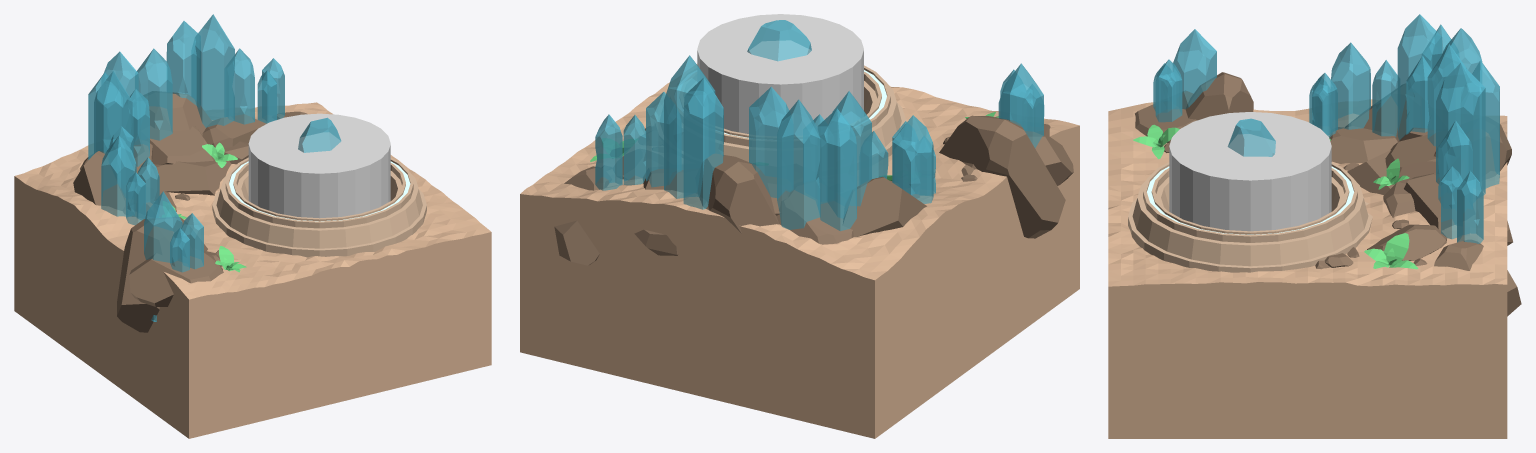
File: crystal-desert.glb
3 renders of one model, left to right at view 1: azimuth 30°, elevation 25°; view 2: azimuth 150°, elevation 25°; view 3: azimuth 270°, elevation 25°, orthographic. The views are drawn at different scales.
Parts seen in each view (by area): view 1: Ground, Cutout, Ring, crystal.001, rock, rock.024, crystal.004, crystal, crystal.007, crystal.008, rock.003, crystal.002 (+15 smaller); view 2: Ground, Cutout, rock, crystal.001, crystal.003, crystal, crystal.007, rock.009, crystal.002, rock.008, crystal.008, Ring (+11 smaller); view 3: Ground, Cutout, Ring, crystal.001, crystal.007, crystal, crystal.008, crystal.014, rock, rock.001, crystal.011, rock.004 (+23 smaller).
Boxes of the visible parts, left/top/right/bottom form: Ground: left=14, top=102, right=491, bottom=438; Cutout: left=248, top=113, right=390, bottom=218; Ring: left=212, top=157, right=426, bottom=257; crystal.001: left=191, top=14, right=234, bottom=127; rock: left=117, top=217, right=207, bottom=332; rock.024: left=129, top=253, right=223, bottom=306; crystal.004: left=137, top=48, right=172, bottom=140; crystal: left=166, top=21, right=200, bottom=107; crystal.007: left=94, top=71, right=132, bottom=153; crystal.008: left=101, top=135, right=136, bottom=216; rock.003: left=154, top=160, right=231, bottom=195; crystal.002: left=88, top=72, right=121, bottom=159; Ground: left=520, top=64, right=1079, bottom=438; Cutout: left=697, top=14, right=863, bottom=133; rock: left=939, top=115, right=1065, bottom=238; crystal.001: left=664, top=55, right=715, bottom=198; crystal.003: left=777, top=99, right=820, bottom=229; crystal: left=683, top=77, right=723, bottom=209; crystal.007: left=827, top=91, right=871, bottom=218; rock.009: left=700, top=153, right=778, bottom=233; crystal.002: left=817, top=108, right=856, bottom=230; rock.008: left=843, top=176, right=926, bottom=236; crystal.008: left=892, top=115, right=933, bottom=203; Ring: left=723, top=65, right=906, bottom=161; Ground: left=1108, top=99, right=1507, bottom=438; Cutout: left=1169, top=112, right=1331, bottom=231; Ring: left=1128, top=162, right=1372, bottom=272; crystal.001: left=1436, top=63, right=1485, bottom=194; crystal.007: left=1397, top=14, right=1441, bottom=140; crystal: left=1461, top=60, right=1499, bottom=188; crystal.008: left=1331, top=42, right=1370, bottom=129; crystal.014: left=1173, top=29, right=1216, bottom=109; rock: left=1185, top=72, right=1253, bottom=120; rock.001: left=1329, top=126, right=1398, bottom=163; crystal.011: left=1372, top=60, right=1397, bottom=136; rock.004: left=1385, top=133, right=1496, bottom=183.
Bounding box in the file's own units: 8.73 × 6.79 × 8.28.
